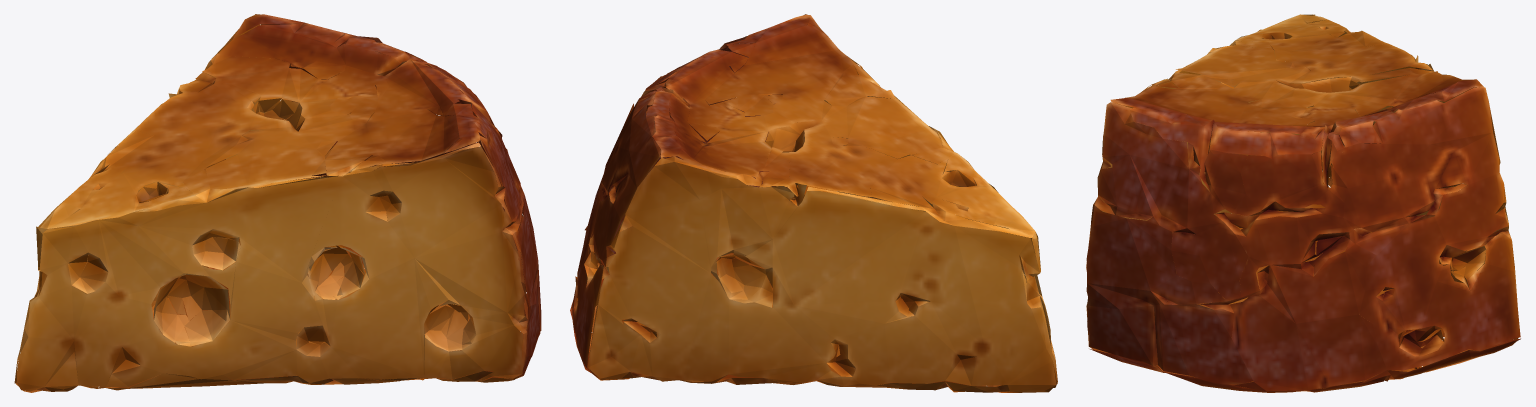
Rendered from chees.glb.
3 views of the same model, side by side, from view 1: azimuth 30°, elevation 25°; view 2: azimuth 150°, elevation 25°; view 3: azimuth 270°, elevation 25° (orthographic). The views are drawn at different scales.
Visible parts, largest first — view 1: geometry_0.001; view 2: geometry_0.001; view 3: geometry_0.001.
Boxes of the visible parts, x1=… form: geometry_0.001: x1=14, y1=14, x2=541, y2=392; geometry_0.001: x1=570, y1=14, x2=1057, y2=392; geometry_0.001: x1=1086, y1=14, x2=1520, y2=392.
Size of the model in its own units: 0.2 by 0.0964 by 0.1573.
1 material, 1 textured.
